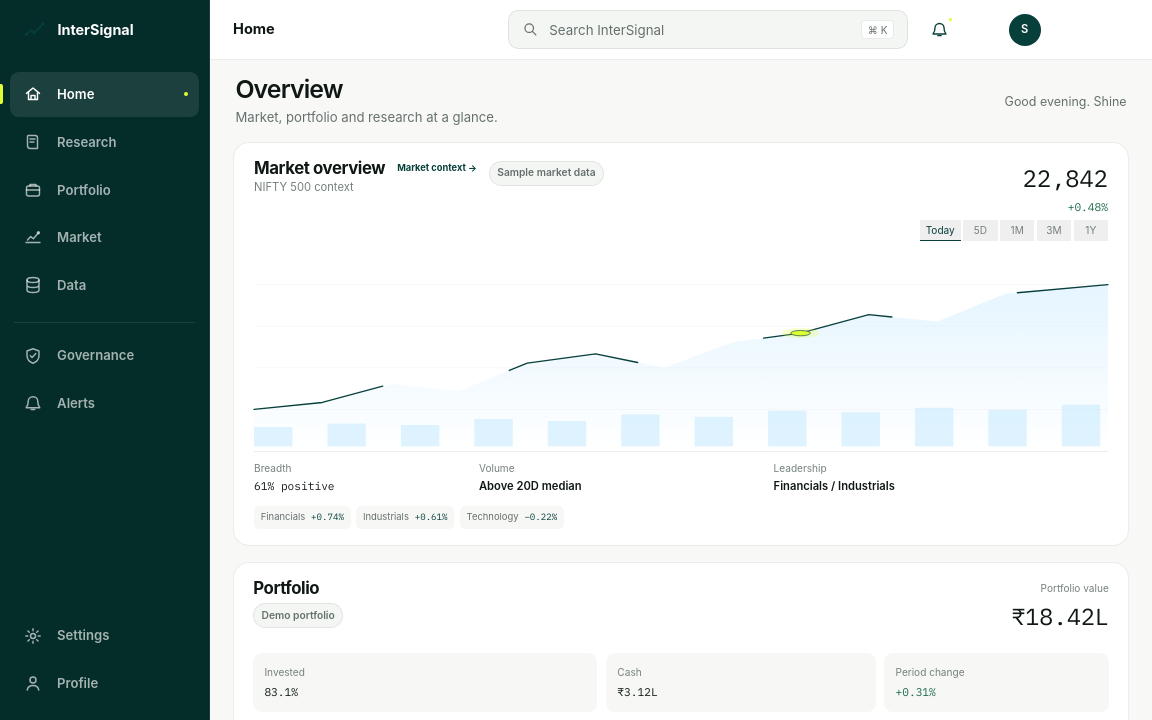
Test case: InterSignal Intelligence Home › opens contextual Research, Data, Governance and Alerts detail
The image size is (1152, 720).
Expected: the heading "Overview" is shown, [235,74,343,104]
Click the button named "Open contextual drawer" at (940, 30), box [922,12,958,48]
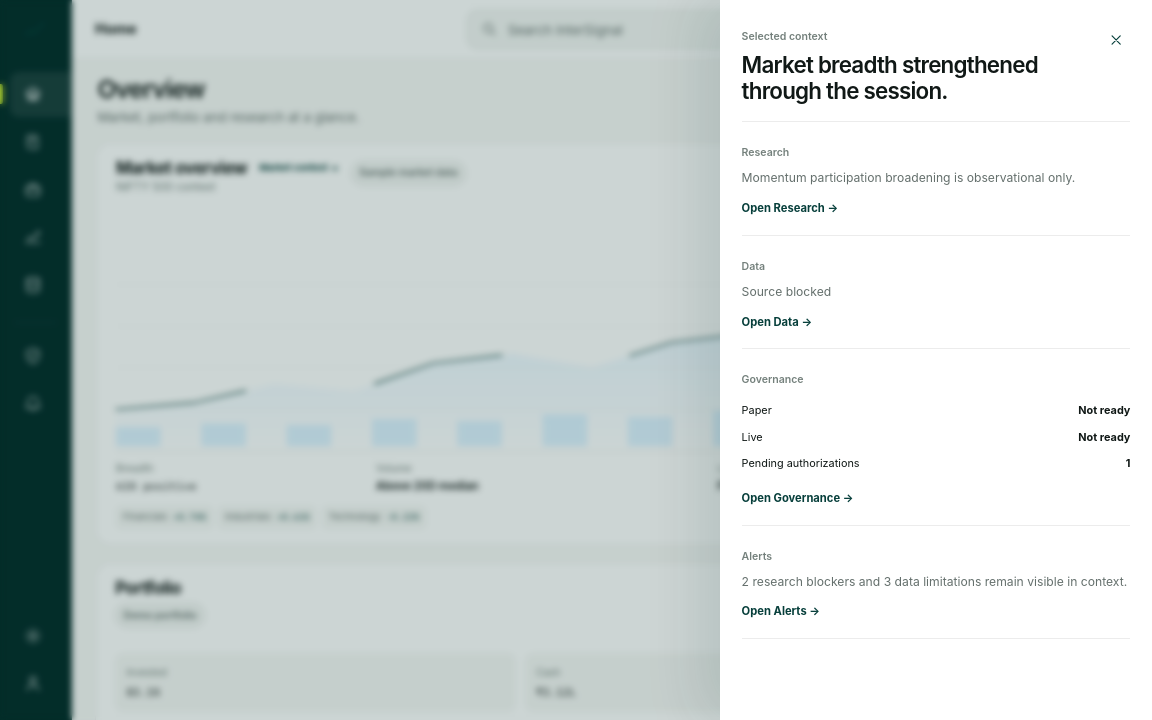
Expected: the dialog named "Context drawer" is shown, [720,0,1151,719]
Expected: the text "Research" is shown, [742,146,789,159]
Expected: the text "Governance" is shown, [742,373,804,386]
